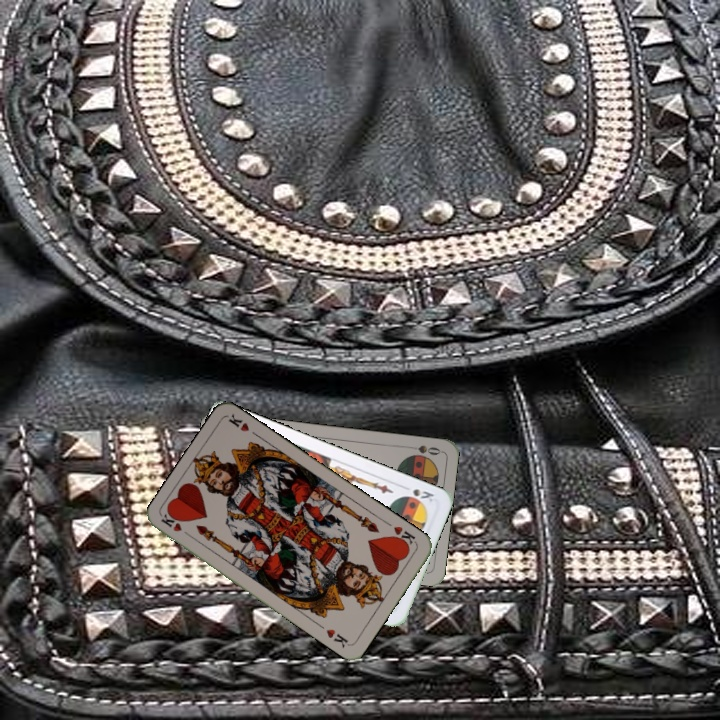HK: (157, 510, 195, 541), (388, 522, 419, 550)
SK: (398, 482, 437, 504)
SO: (403, 441, 443, 458)
